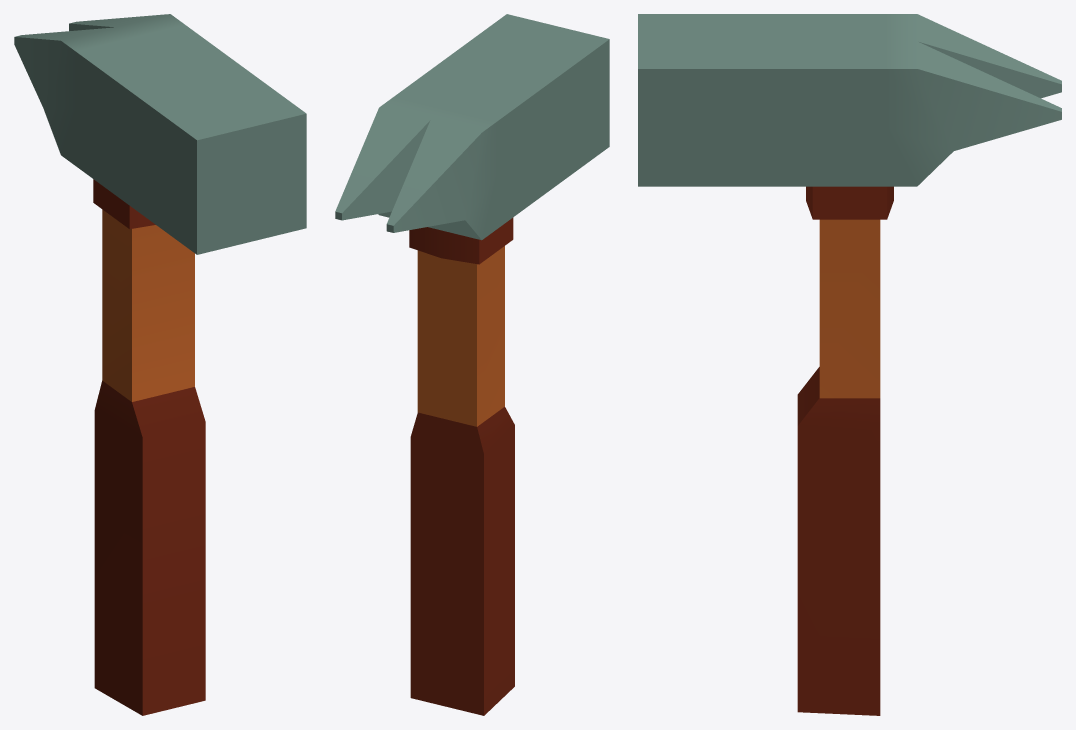
File: hammer.fbx
The picture shows the model from 3 angles, left to right: view 1: azimuth 30°, elevation 25°; view 2: azimuth 150°, elevation 25°; view 3: azimuth 270°, elevation 25°; orthographic projection. The views are drawn at different scales.
Visible parts, largest first — view 1: hammer_geo; view 2: hammer_geo; view 3: hammer_geo.
Boxes of the visible parts, x1=… form: hammer_geo: x1=14, y1=14, x2=306, y2=715; hammer_geo: x1=335, y1=14, x2=609, y2=715; hammer_geo: x1=638, y1=14, x2=1061, y2=715.
Size of the model in its own units: 21.9 by 122 by 71.53.
Materials: 1 (1 with a texture image).
